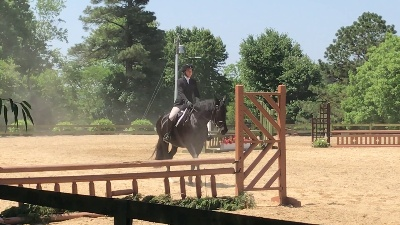jetta: (151, 95, 231, 182)
